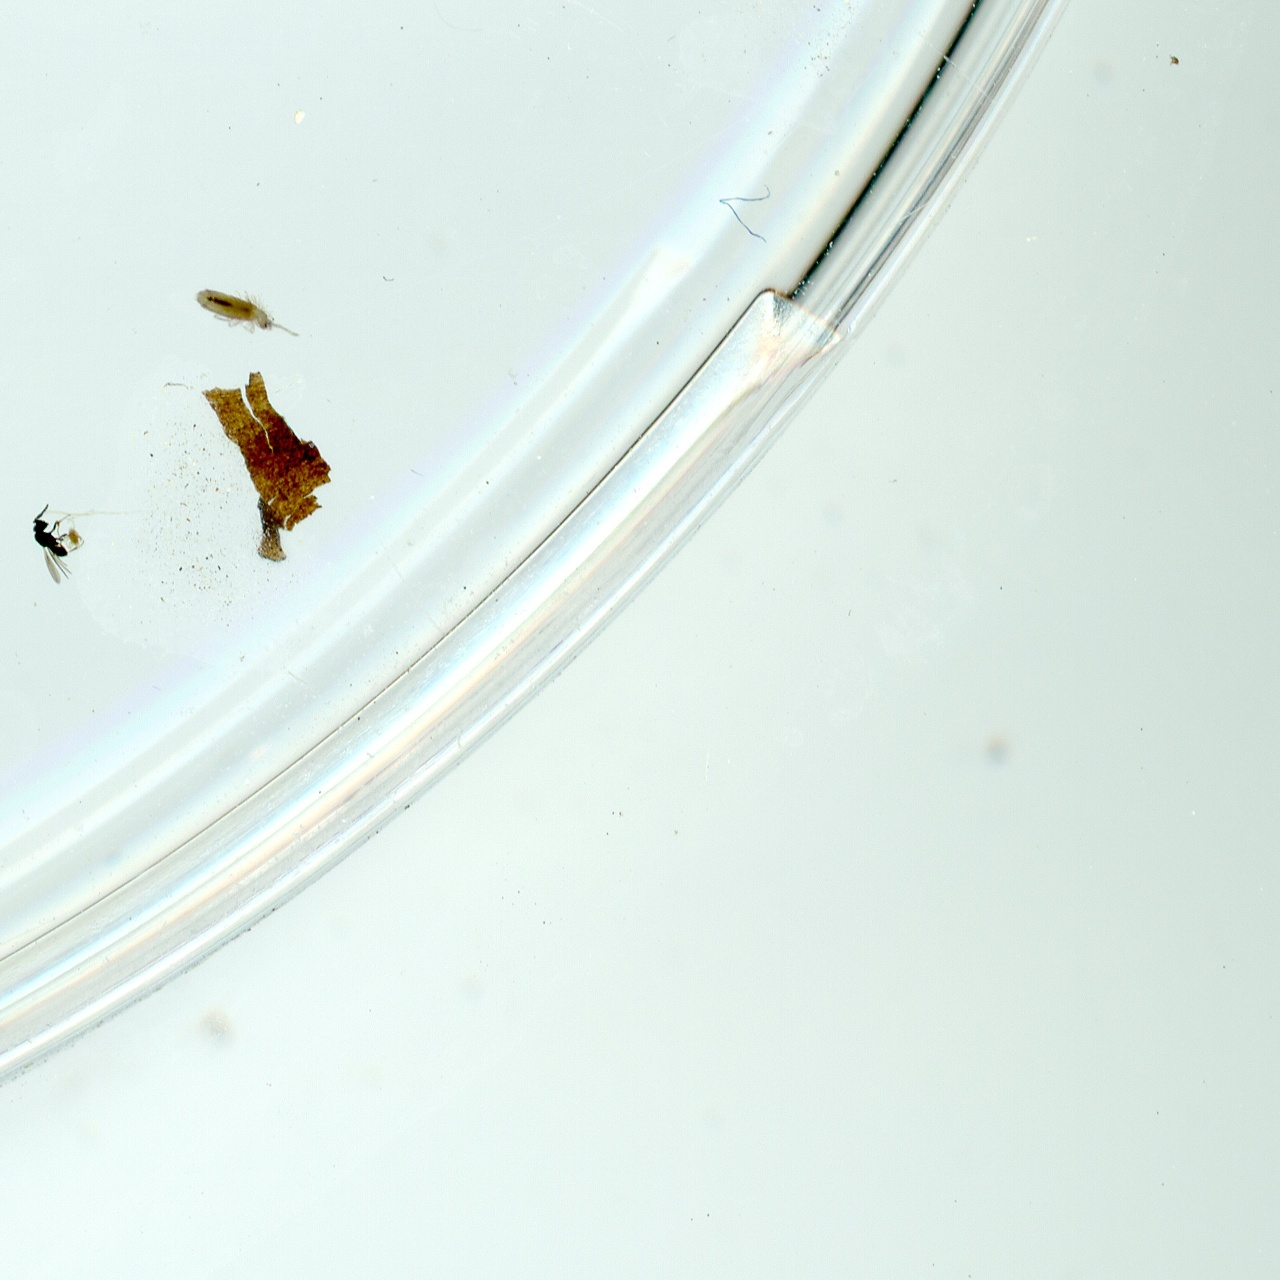arthropod: (193, 282, 302, 338), (27, 501, 79, 587)
